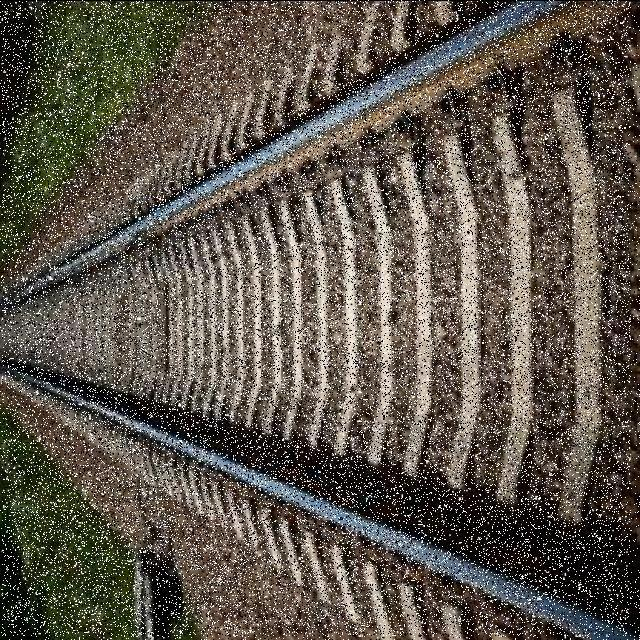rail: (2, 1, 631, 636)
